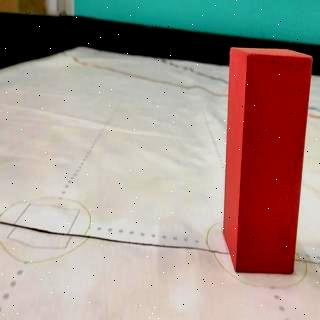redbox: (220, 46, 314, 274)
